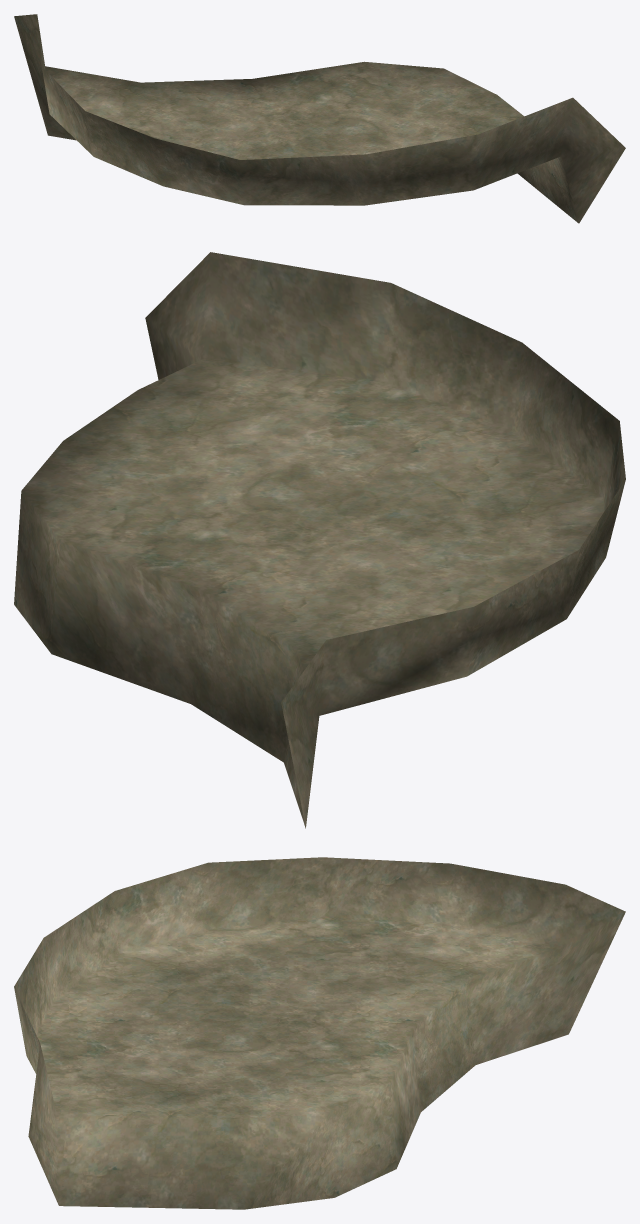
The model's file is EKH_GROTTO_PS_GR_OBJECT09.fbx.
3 views of the same model, one above another, from view 1: azimuth 30°, elevation 25°; view 2: azimuth 150°, elevation 25°; view 3: azimuth 270°, elevation 25° (orthographic). The views are drawn at different scales.
Parts seen in each view (by area): view 1: EKH_GROTTO_PS_GR_OBJECT09; view 2: EKH_GROTTO_PS_GR_OBJECT09; view 3: EKH_GROTTO_PS_GR_OBJECT09.
Part boxes in pixels (<box>): EKH_GROTTO_PS_GR_OBJECT09: <box>14,14,625,223</box>; EKH_GROTTO_PS_GR_OBJECT09: <box>14,252,625,828</box>; EKH_GROTTO_PS_GR_OBJECT09: <box>14,857,625,1209</box>.
Bounding box in the file's own units: 37800 × 11900 × 42562.
1 material, 1 textured.
